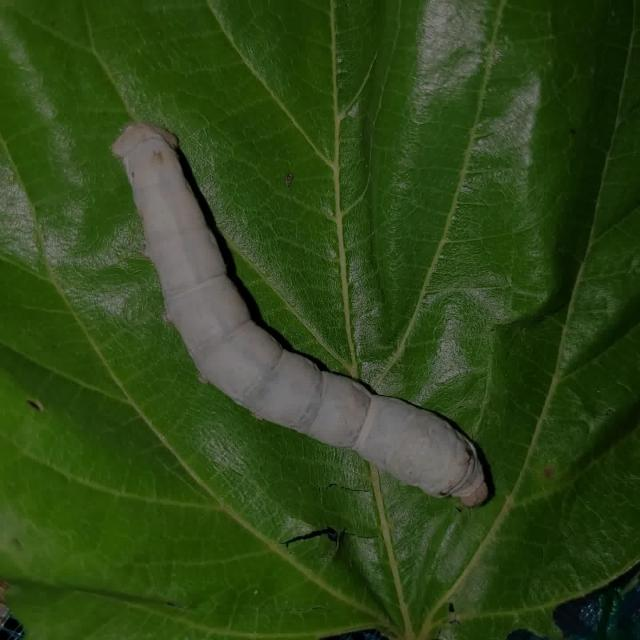Healthy: (70, 94, 509, 518)
